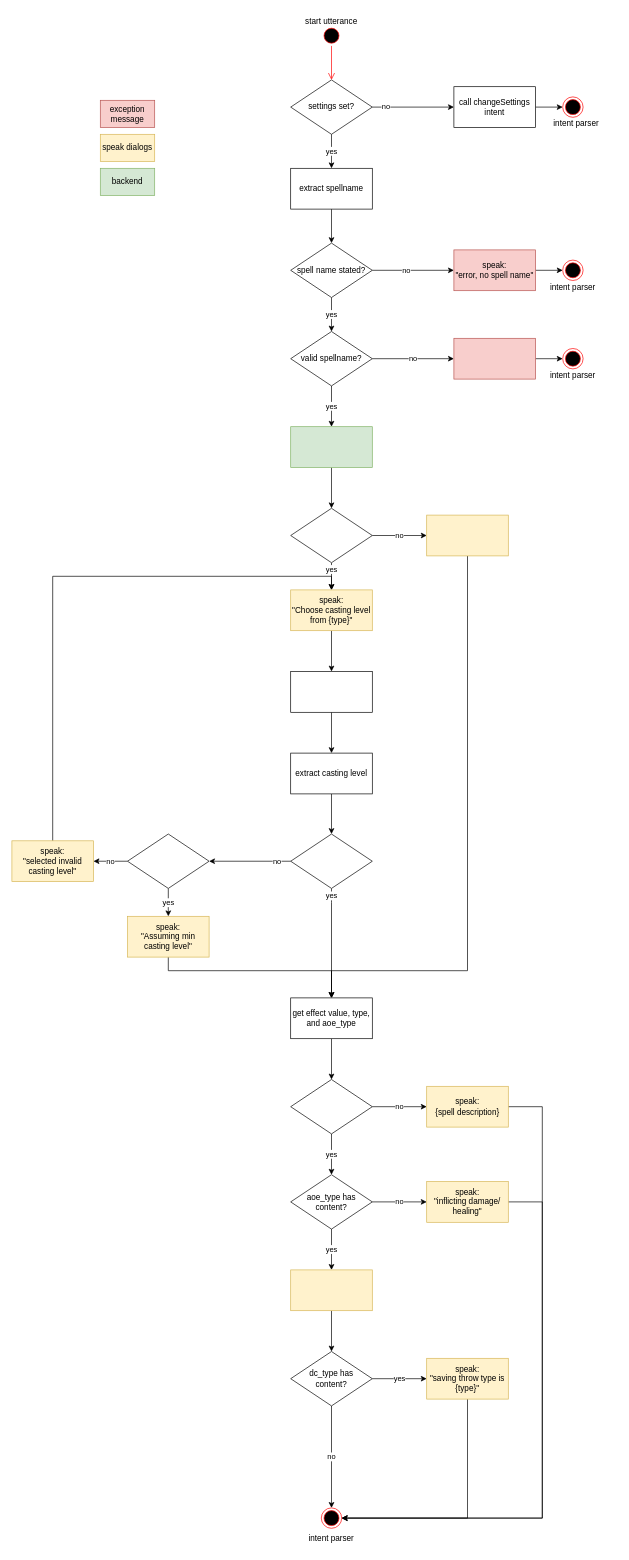
The diagram is 629 pixels wide and 1560 high, and some of its shapes have lost their labels. Each missing label, with the centre of its shape:
build response: pixel 331 447
casting level valid?: pixel 331 860
effect value has content?: pixel 331 1106
get response: pixel 331 691
retry limit reached?: pixel 168 860
speak: "error, invalid spell name": pixel 494 358
speak: "inflicting aoe damage/ healing": pixel 331 1290
speak: "Spell has no casting level": pixel 467 535
spell has casting level?: pixel 331 535
